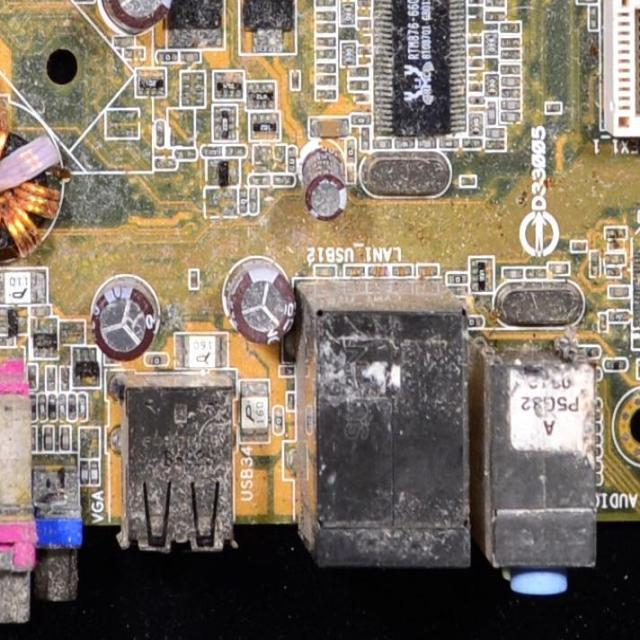IC: (376, 0, 470, 130)
capacitor: (76, 389, 88, 424), (369, 264, 389, 280), (58, 390, 67, 422), (416, 266, 438, 279), (607, 286, 630, 298), (486, 101, 497, 126), (392, 266, 414, 278), (189, 268, 200, 292), (569, 239, 589, 252), (43, 428, 53, 453), (345, 266, 365, 278), (607, 254, 630, 264), (459, 176, 478, 188), (314, 266, 336, 276), (502, 268, 524, 278), (376, 138, 393, 150), (62, 428, 70, 452), (80, 460, 88, 484), (500, 77, 520, 86), (500, 112, 522, 120), (40, 390, 46, 419), (91, 461, 98, 485), (183, 54, 199, 64), (502, 102, 523, 109), (419, 140, 435, 148), (551, 263, 565, 272), (635, 358, 640, 379), (487, 131, 503, 137), (574, 0, 597, 4), (639, 213, 640, 220)
resistor: (310, 59, 337, 74), (463, 311, 482, 328), (154, 51, 178, 64), (315, 73, 337, 86), (273, 406, 283, 434), (313, 38, 337, 49), (144, 354, 169, 364), (30, 392, 38, 423), (446, 273, 468, 284), (486, 9, 506, 21), (313, 91, 337, 101), (240, 188, 249, 213), (47, 394, 55, 422), (314, 10, 336, 20), (500, 53, 522, 63), (604, 359, 626, 369), (351, 114, 368, 126), (502, 39, 522, 49), (314, 48, 334, 58), (347, 138, 355, 163), (313, 23, 335, 32), (69, 396, 75, 423), (442, 138, 458, 148), (315, 0, 336, 6), (501, 25, 522, 31), (487, 0, 507, 5)
